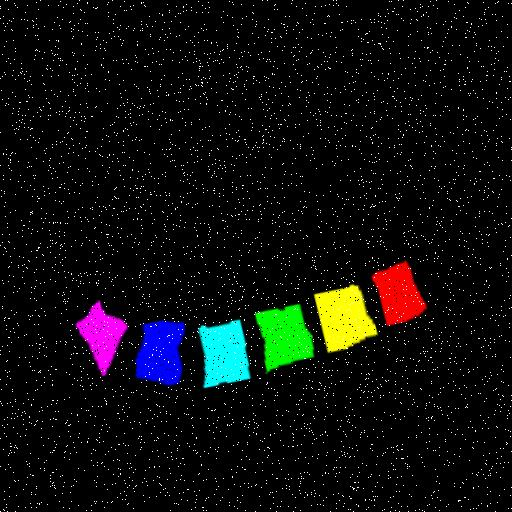L1: (374, 253, 428, 317)
L2: (316, 277, 380, 345)
L3: (256, 297, 316, 367)
L4: (201, 314, 253, 383)
L5: (138, 317, 186, 381)
S1: (80, 300, 129, 372)
